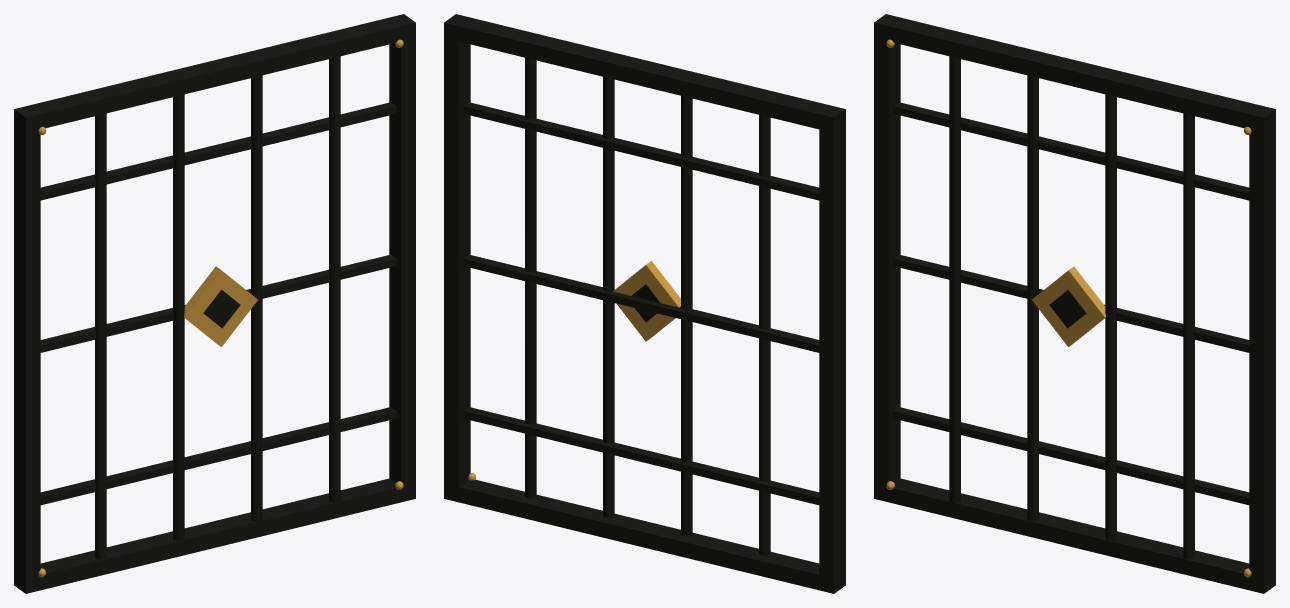
Rendered from window-grill.glb.
3 renders of one model, left to right at view 1: azimuth 30°, elevation 25°; view 2: azimuth 150°, elevation 25°; view 3: azimuth 330°, elevation 25°, orthographic.
Size of the model in its own units: 1.2 by 1.4 by 0.0735.
